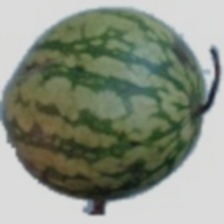watermelon: (32, 43, 180, 191)
